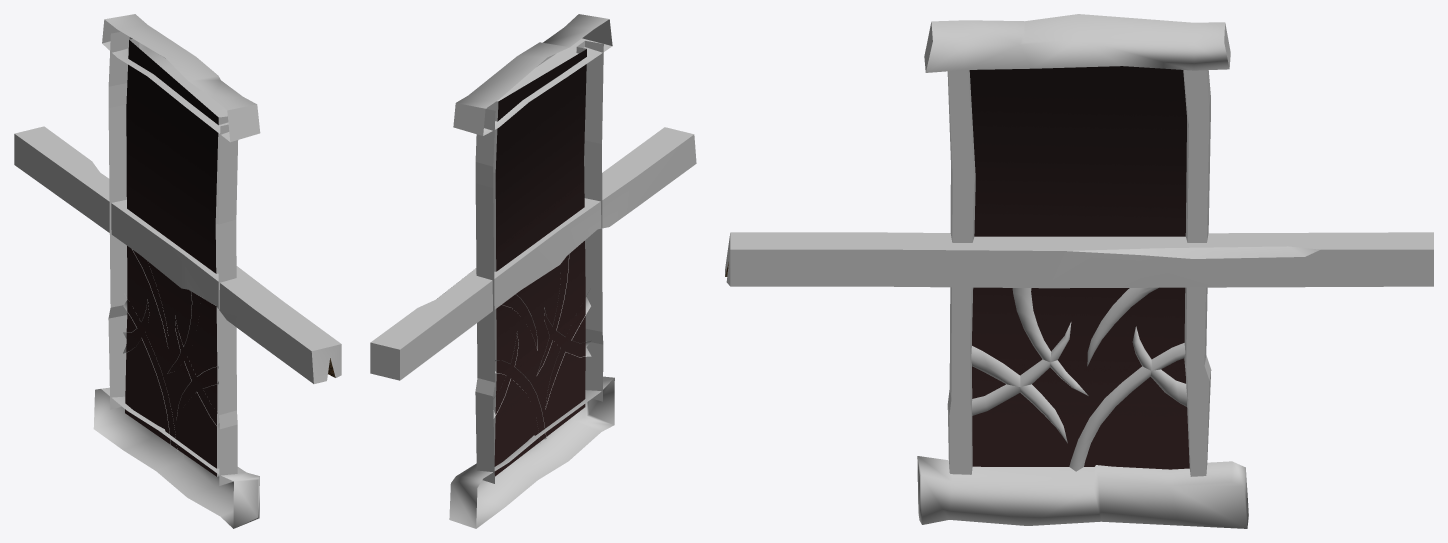
Rendered from lower_city_window_11_wood_plank.fbx.
The picture shows the model from 3 angles, left to right: view 1: azimuth 30°, elevation 25°; view 2: azimuth 150°, elevation 25°; view 3: azimuth 270°, elevation 25°; orthographic projection. The views are drawn at different scales.
Visible parts, largest first — view 1: lower_city_window_11_wood_plank; view 2: lower_city_window_11_wood_plank; view 3: lower_city_window_11_wood_plank.
Part boxes in pixels (left/top/right/bottom): lower_city_window_11_wood_plank: left=14, top=14, right=341, bottom=528; lower_city_window_11_wood_plank: left=370, top=14, right=696, bottom=528; lower_city_window_11_wood_plank: left=725, top=14, right=1433, bottom=528.
Bounding box in the file's own units: 0.1681 × 2.08 × 2.66.
